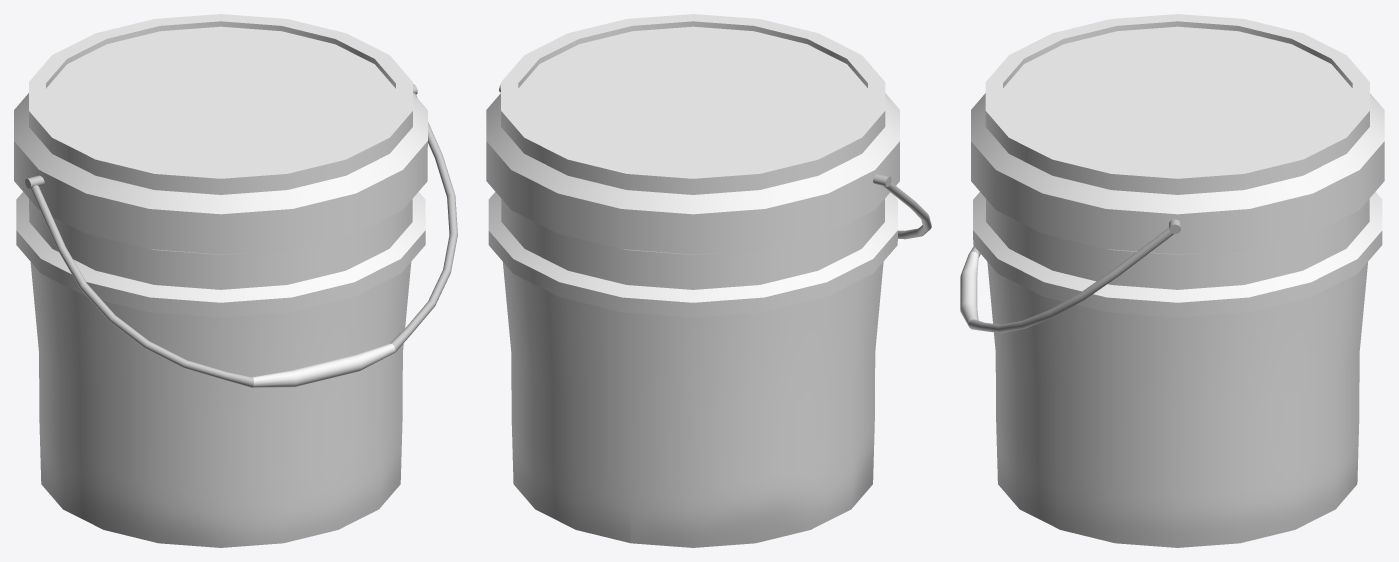
The model's file is Container 2.FBX.
The picture shows the model from 3 angles, left to right: view 1: azimuth 30°, elevation 25°; view 2: azimuth 150°, elevation 25°; view 3: azimuth 270°, elevation 25°; orthographic projection.
Parts seen in each view (by area): view 1: container 2; view 2: container 2; view 3: container 2.
Boxes of the visible parts, bbox=[...] form: container 2: bbox=[14, 14, 457, 547]; container 2: bbox=[486, 14, 931, 547]; container 2: bbox=[960, 14, 1384, 547].
Size of the model in its own units: 27.37 by 25.32 by 26.01.
